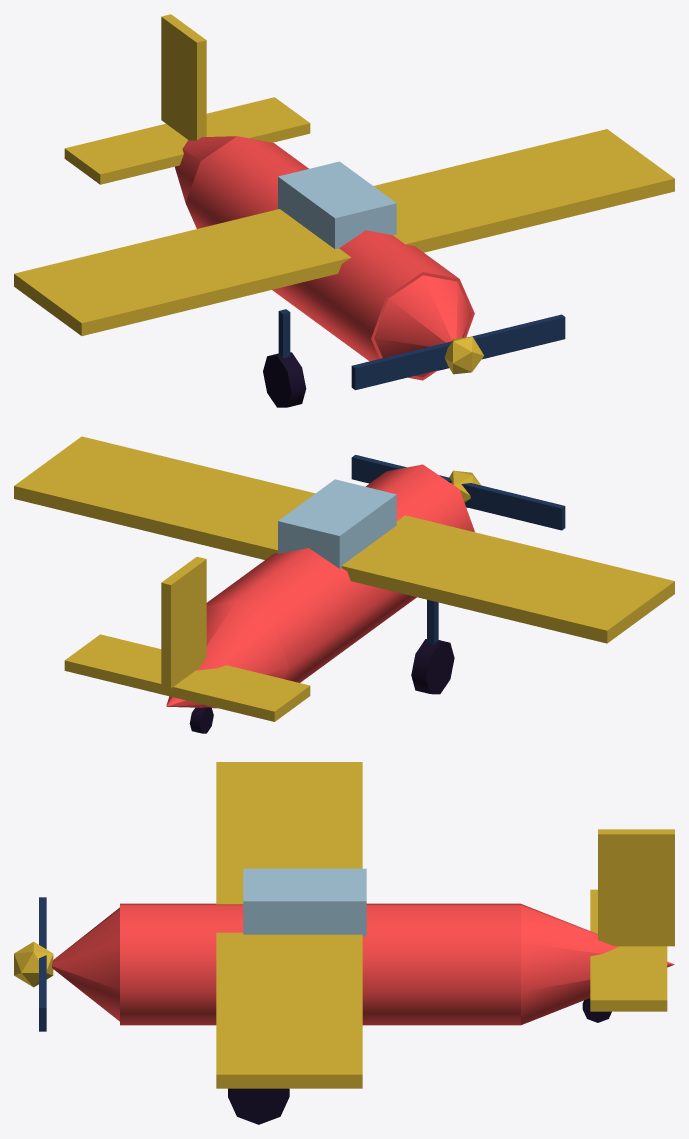
Rendered from aviao.glb.
3 views of the same model, one above another, from view 1: azimuth 30°, elevation 25°; view 2: azimuth 150°, elevation 25°; view 3: azimuth 270°, elevation 25° (orthographic). The views are drawn at different scales.
Parts seen in each view (by area): view 1: aviao, giro_z_0; view 2: aviao, giro_z_0; view 3: aviao, giro_z_0.
Boxes of the visible parts, x1,y1,x2,y2 form: aviao: [14, 14, 674, 407]; giro_z_0: [351, 314, 565, 390]; aviao: [14, 436, 674, 733]; giro_z_0: [351, 455, 565, 530]; aviao: [52, 762, 674, 1124]; giro_z_0: [14, 897, 53, 1031].
Bounding box in the file's own units: 4.8 × 1.79 × 4.29.
